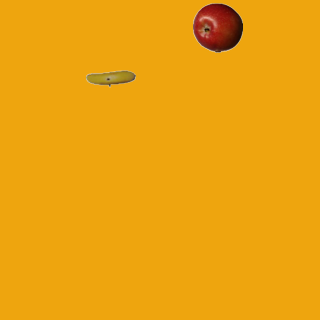Apple Braeburn: (192, 2, 242, 52)
Banana: (85, 53, 135, 103)
